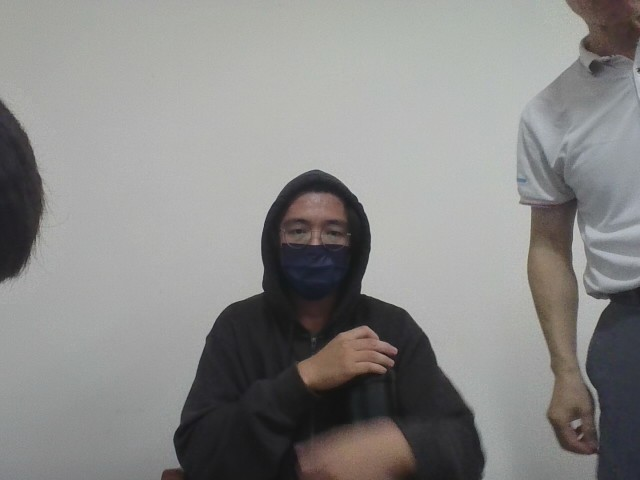No_Gloves: (296, 320, 401, 393), (539, 363, 608, 460)
No_Helmet: (257, 165, 373, 303)
person: (140, 148, 518, 479), (500, 0, 640, 480)
